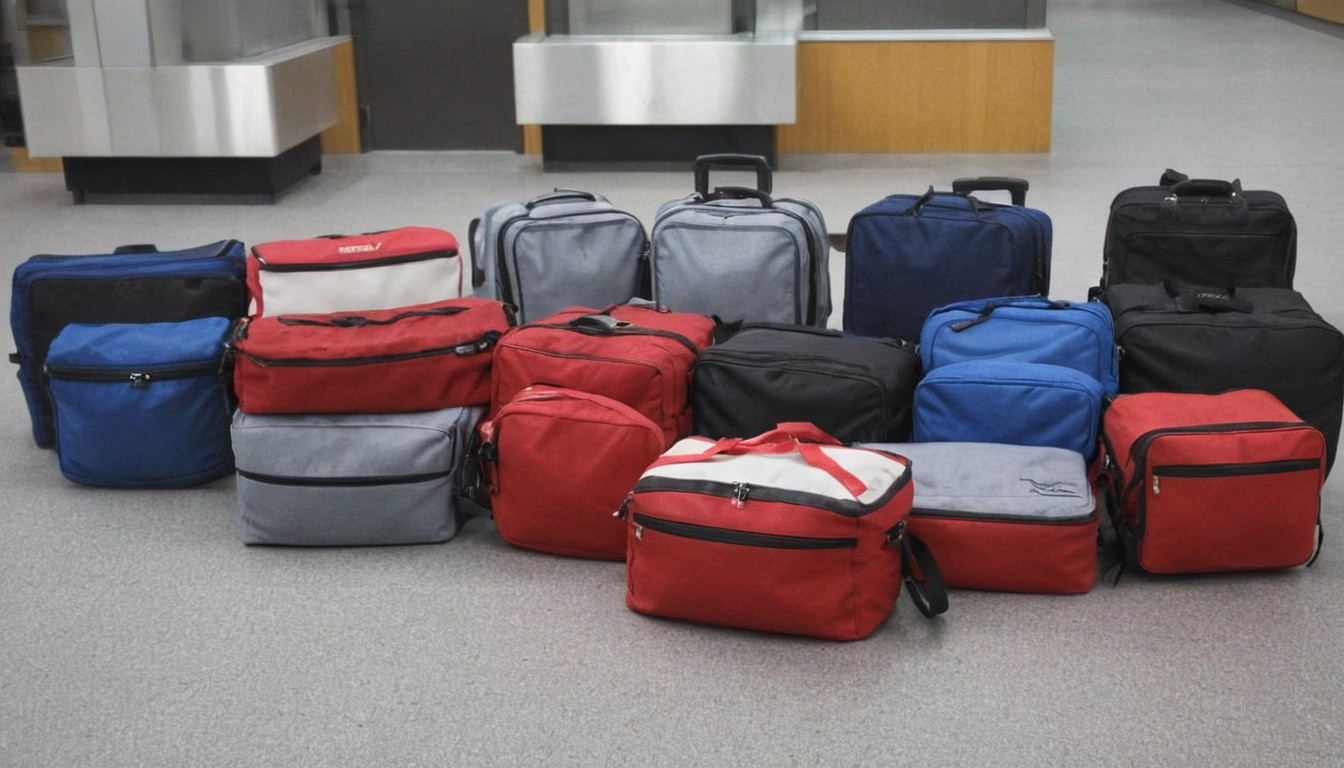Bag: (617, 428, 916, 650), (8, 234, 247, 445), (1096, 394, 1326, 583), (854, 441, 1105, 603), (228, 410, 474, 555), (474, 380, 663, 560), (841, 189, 1059, 335), (41, 313, 227, 484), (230, 304, 513, 414), (685, 322, 915, 449), (650, 184, 839, 329), (482, 305, 711, 419), (1106, 284, 1344, 390), (1103, 173, 1302, 292), (468, 190, 652, 310), (914, 358, 1112, 455), (921, 296, 1118, 389), (248, 229, 467, 303)
Handle: (689, 148, 777, 204), (950, 174, 1033, 206)
Straps: (651, 423, 866, 496), (887, 522, 948, 617)
